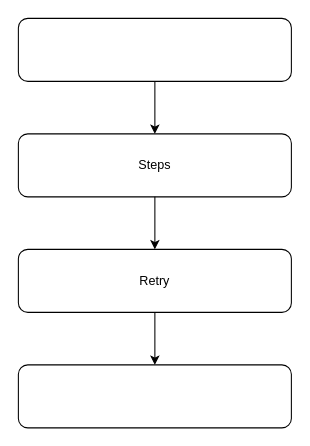
Some shapes in this 310 by 446 pixel diagram are drawn without their labels. Each missing label, with the box of its shape:
Complete: (17, 364, 291, 428)
Trigger: (17, 17, 291, 81)
